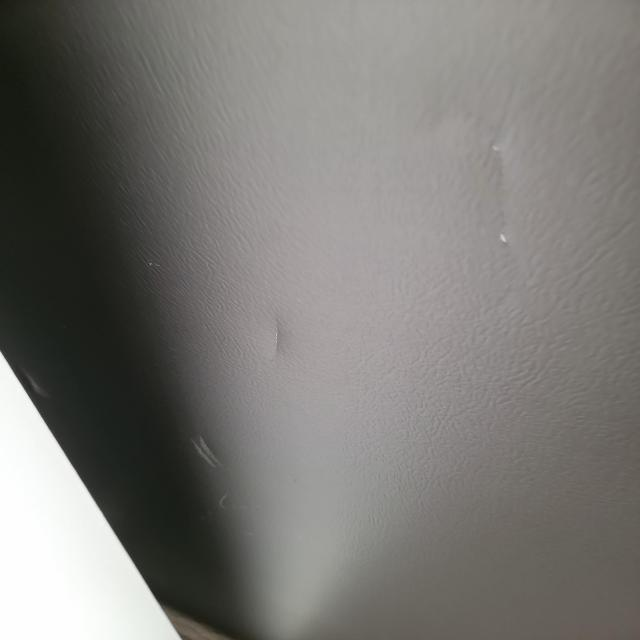dents: (472, 121, 549, 261), (176, 423, 250, 494), (250, 309, 310, 385), (402, 95, 459, 151)
